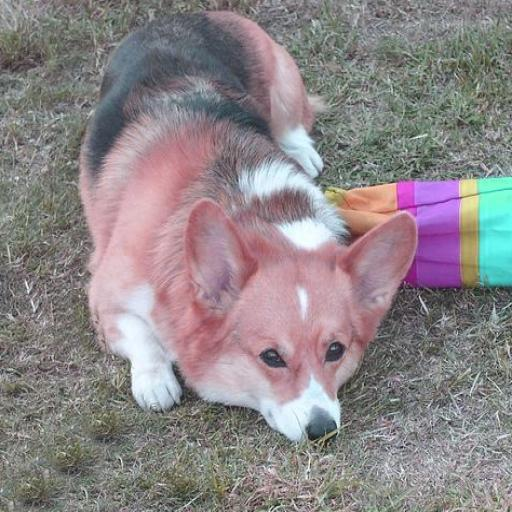dog_face: (165, 196, 442, 445)
